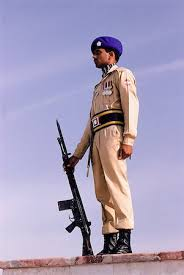Gun: (59, 129, 85, 247)
